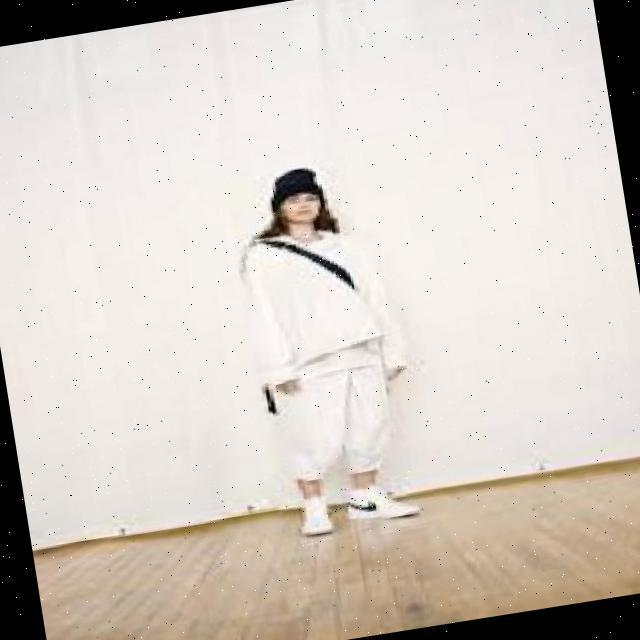Nike: (346, 493, 387, 513)
